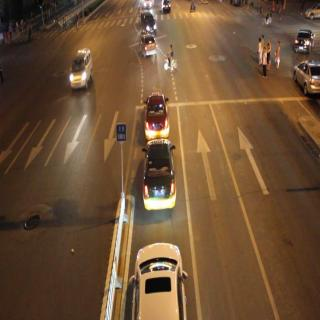Car: (134, 228, 188, 320), (143, 136, 177, 223), (288, 49, 320, 105), (69, 47, 97, 101), (287, 20, 314, 69), (150, 91, 175, 139), (139, 34, 164, 62), (136, 7, 158, 36), (299, 5, 320, 21), (157, 0, 175, 15)
